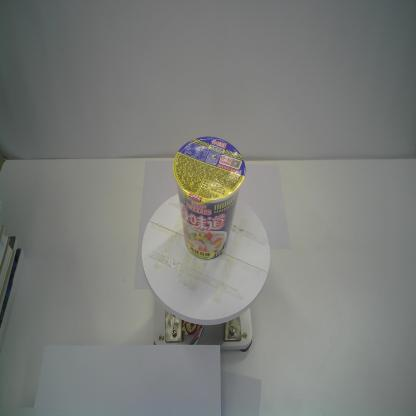Instant Noodles: (172, 135, 247, 262)
